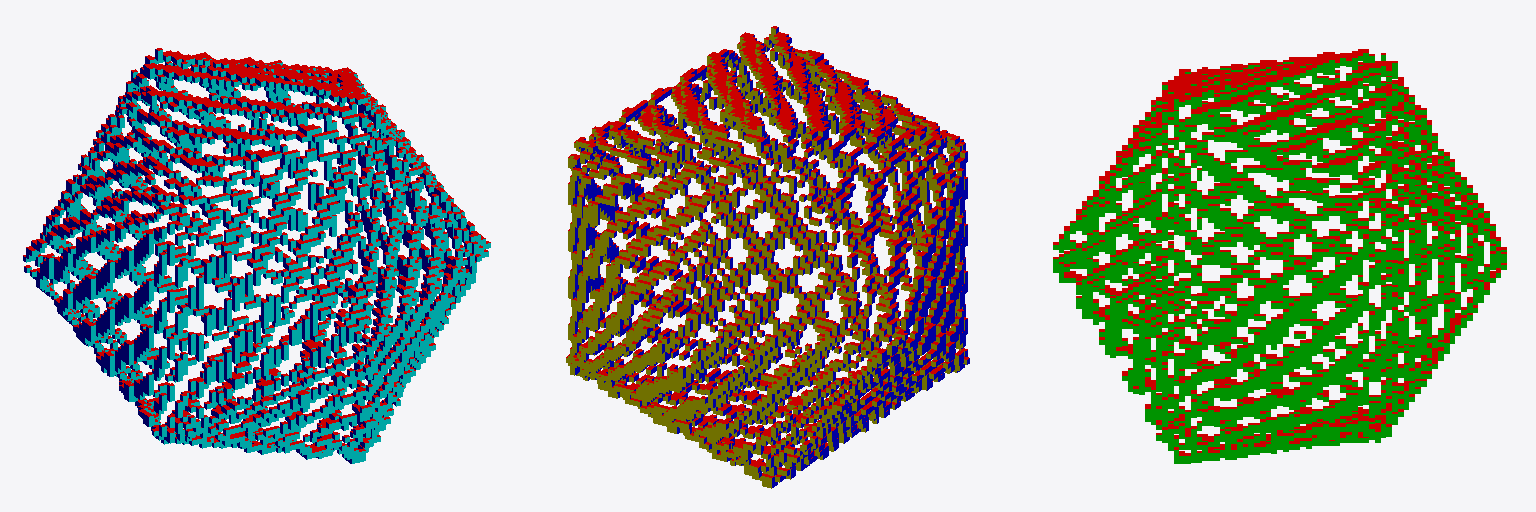
The model's file is pattern_Icosa.obj.
3 renders of one model, left to right at view 1: azimuth 30°, elevation 25°; view 2: azimuth 150°, elevation 25°; view 3: azimuth 270°, elevation 25°, orthographic.
Size of the model in its own units: 146 by 138 by 158.